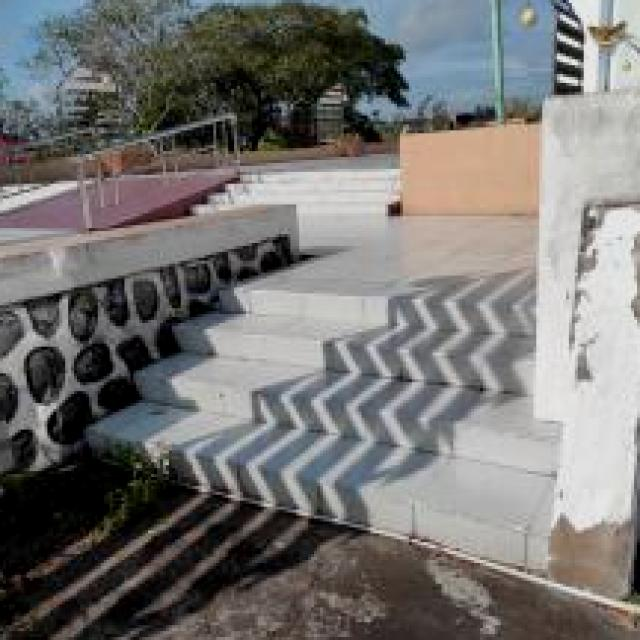upstair: (203, 285, 514, 567)
